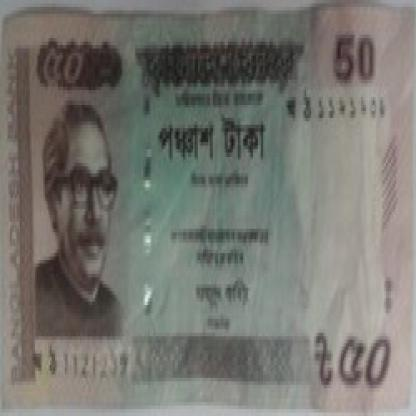Fifty taka: (338, 333, 401, 395), (336, 28, 383, 100)
